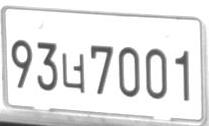0: (144, 48, 167, 100), (118, 46, 140, 97)
1: (172, 50, 194, 101)
3: (37, 41, 57, 91)
7: (90, 45, 114, 94)
9: (10, 39, 33, 88)
너: (61, 53, 85, 93)
